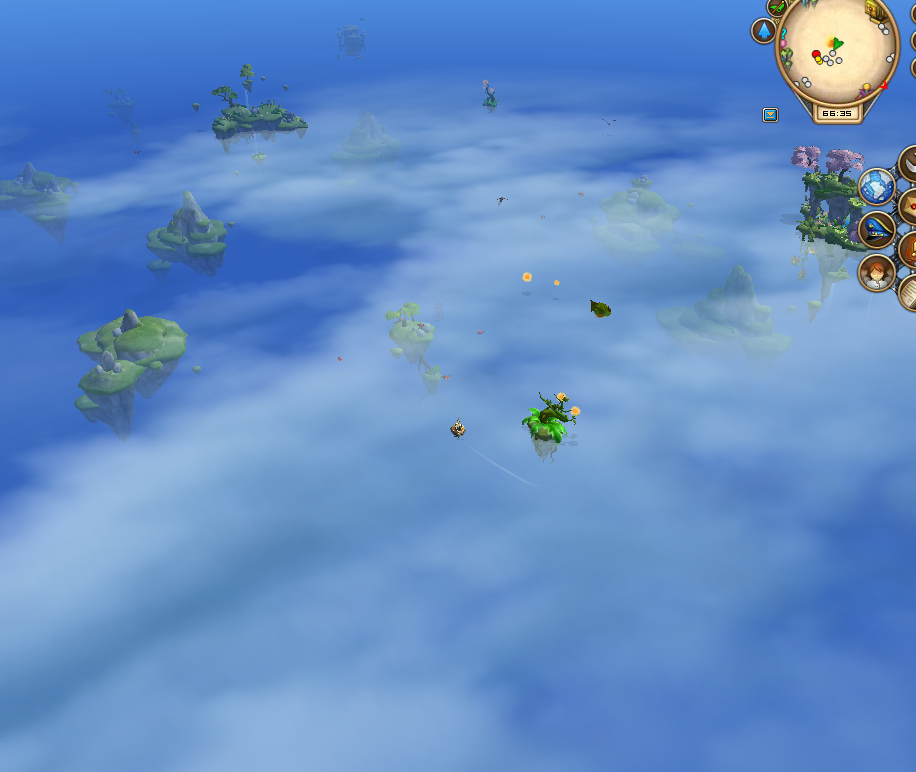dandelion-full: (523, 385, 583, 463), (479, 77, 499, 113)
fluff: (518, 269, 535, 285), (551, 277, 562, 289)
